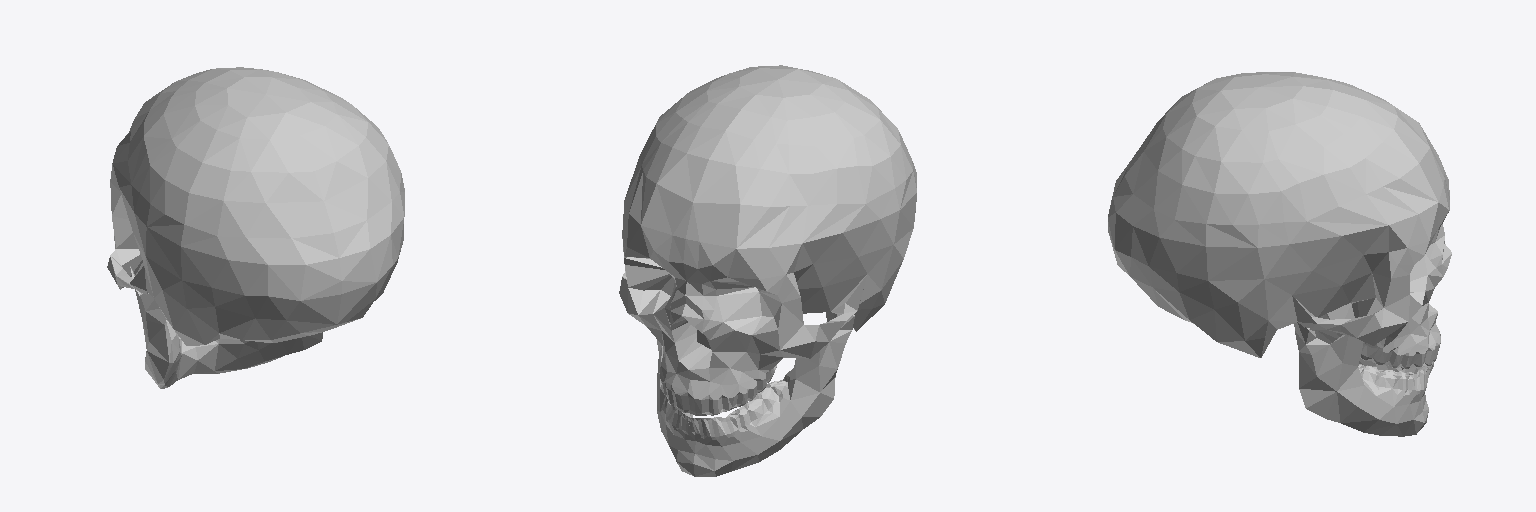
The model's file is skull.obj.
3 views of the same model, side by side, from view 1: azimuth 30°, elevation 25°; view 2: azimuth 150°, elevation 25°; view 3: azimuth 270°, elevation 25° (orthographic).
Size of the model in its own units: 0.5876 by 0.7904 by 0.7275.